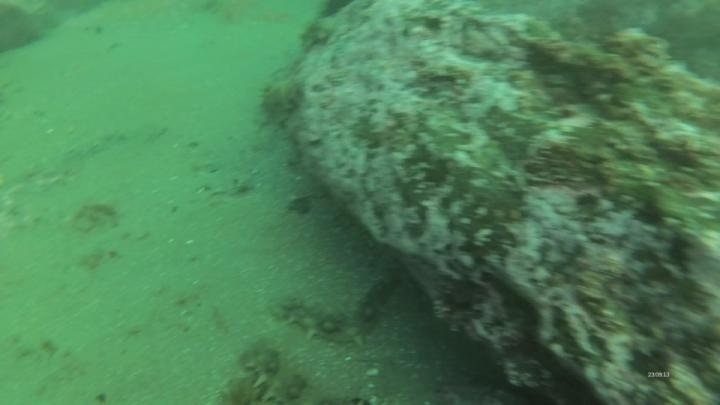holothurian: (270, 289, 374, 348), (237, 336, 312, 405), (350, 250, 404, 336), (254, 72, 305, 133)
